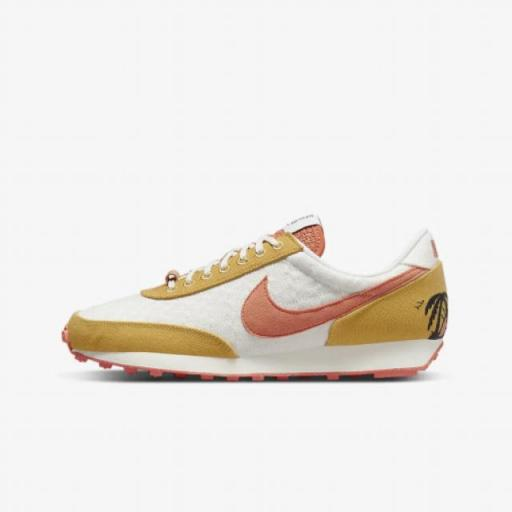Nike: (238, 265, 427, 344)
